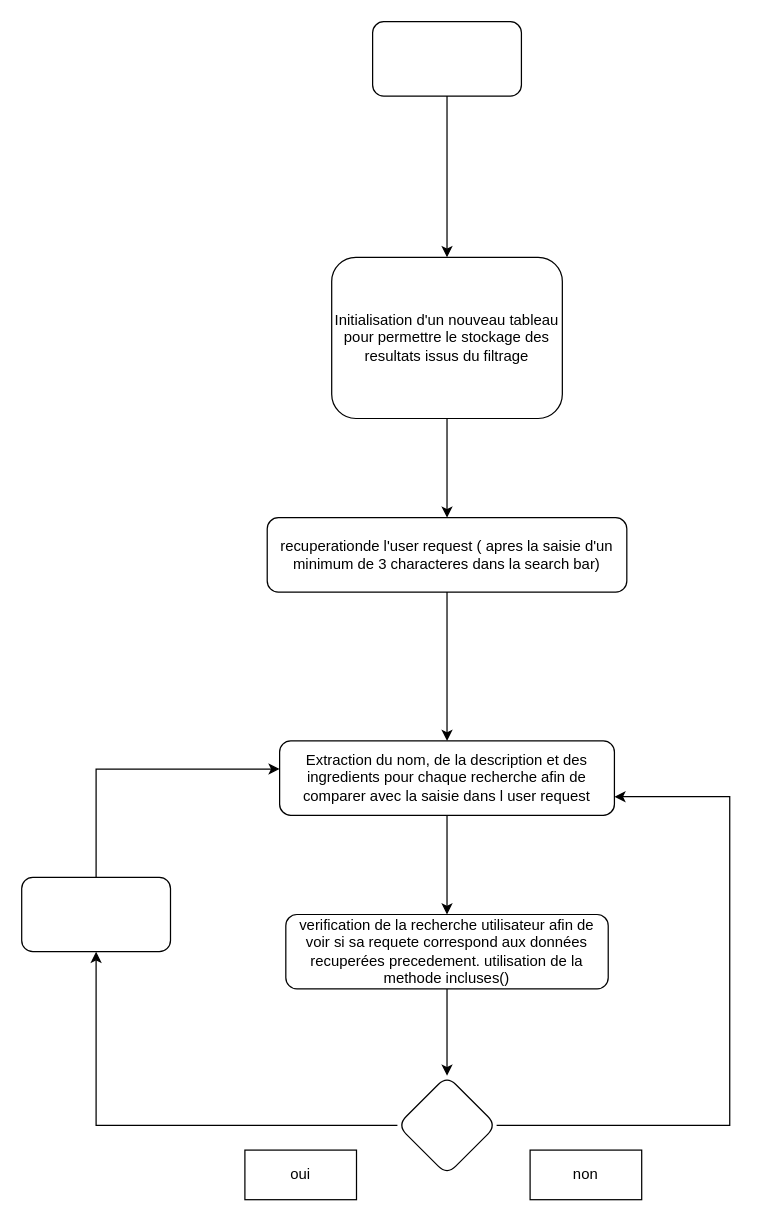
The diagram is 761 pixels wide and 1221 high, and some of its shapes have lost their labels. The shapes that lost their labels are listed below. From the top down, each one's centre as x and y in pixels, then its label:
pixel 446 58: Stockage des recettes
pixel 95 914: Stockage de la recette extraite dans le tableau de resultat "filteredRecipes"
